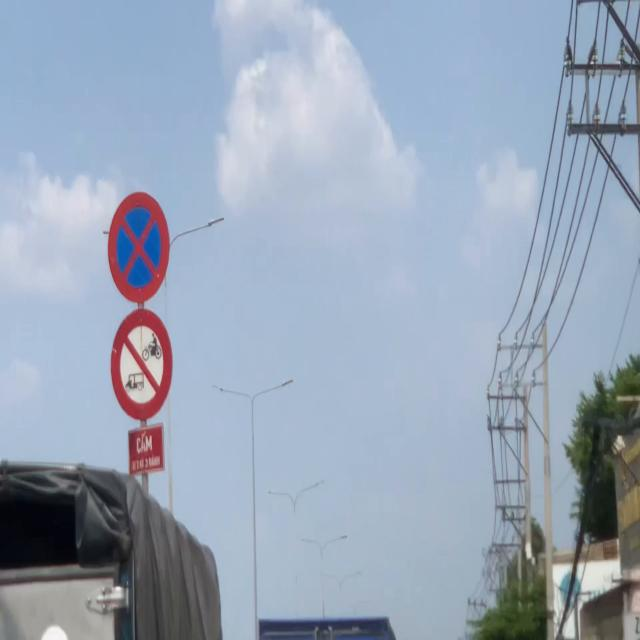Cam con lai: (111, 310, 174, 421)
Cam dung va do: (106, 188, 174, 308)
